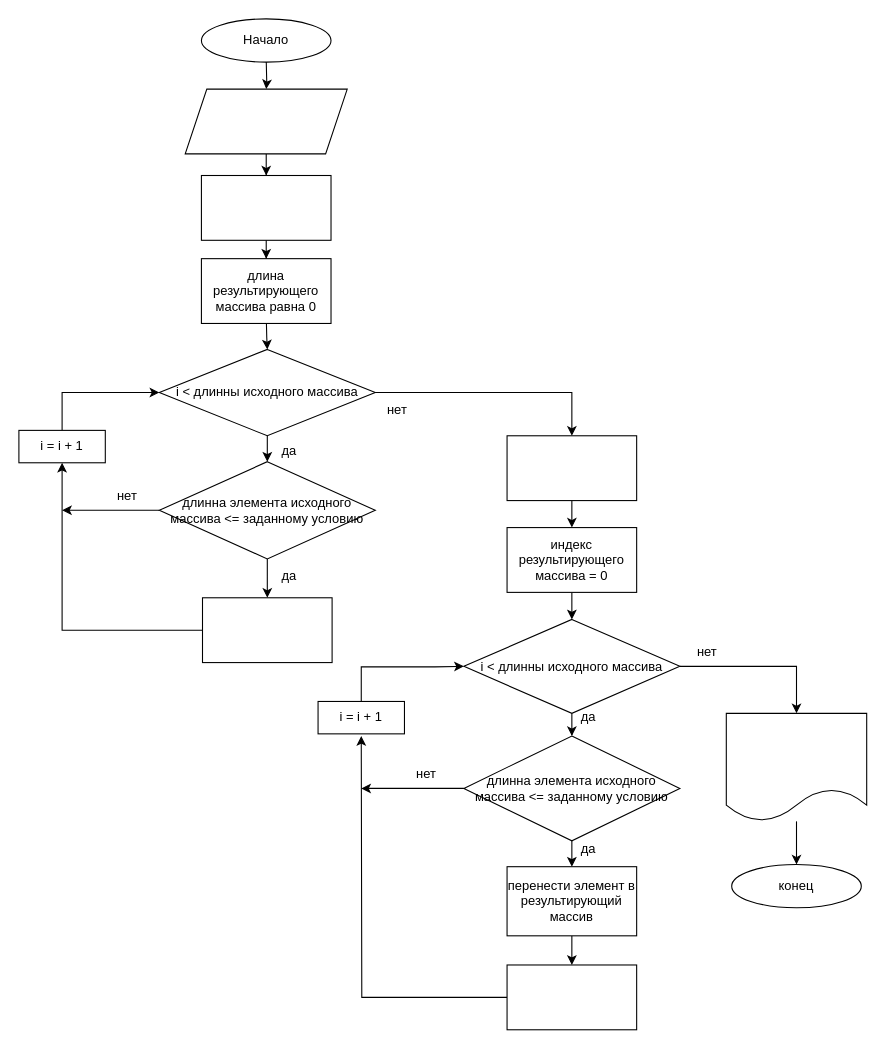
Image size: 886x1049. Some labels were removed from this diagram. The centre of each missing label's shape, as x and y in pixels:
введите элементы массива через пробел: point 265,121
распечатать исходный и результирующий массив: point 796,766
создать исходный массив из введенных значений: point 265,207
создать результирующий массив: point 571,468
увеличиваем длинну результирующего массива на единицу: point 266,630
увеличить индекс результирующего массива на 1: point 571,997
